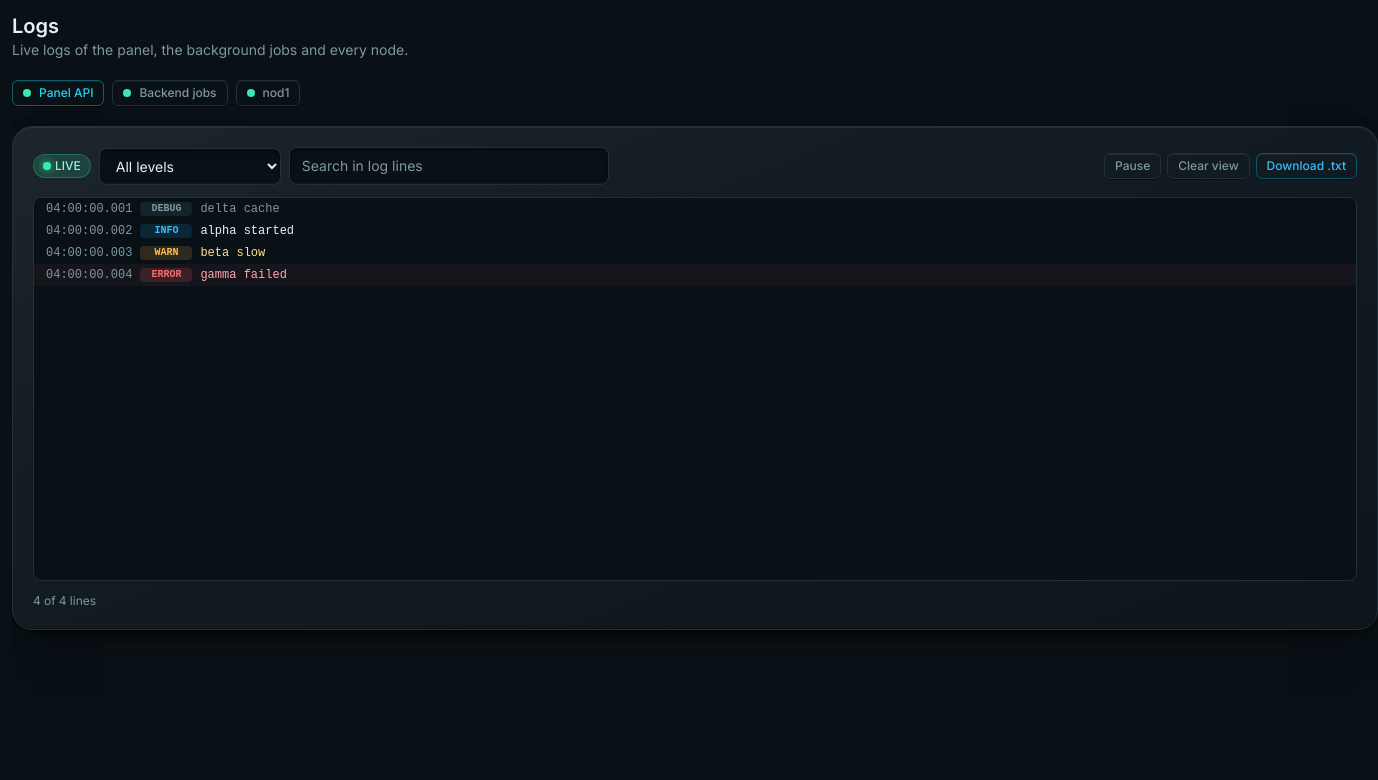
Scenario: Logs toolbar › searches the log text, case-insensitively, and says so when nothing matches
Type "BETA" into the search field with placeholder "Search in log lines" at (449, 166), box left=289, top=147, right=609, bottom=185
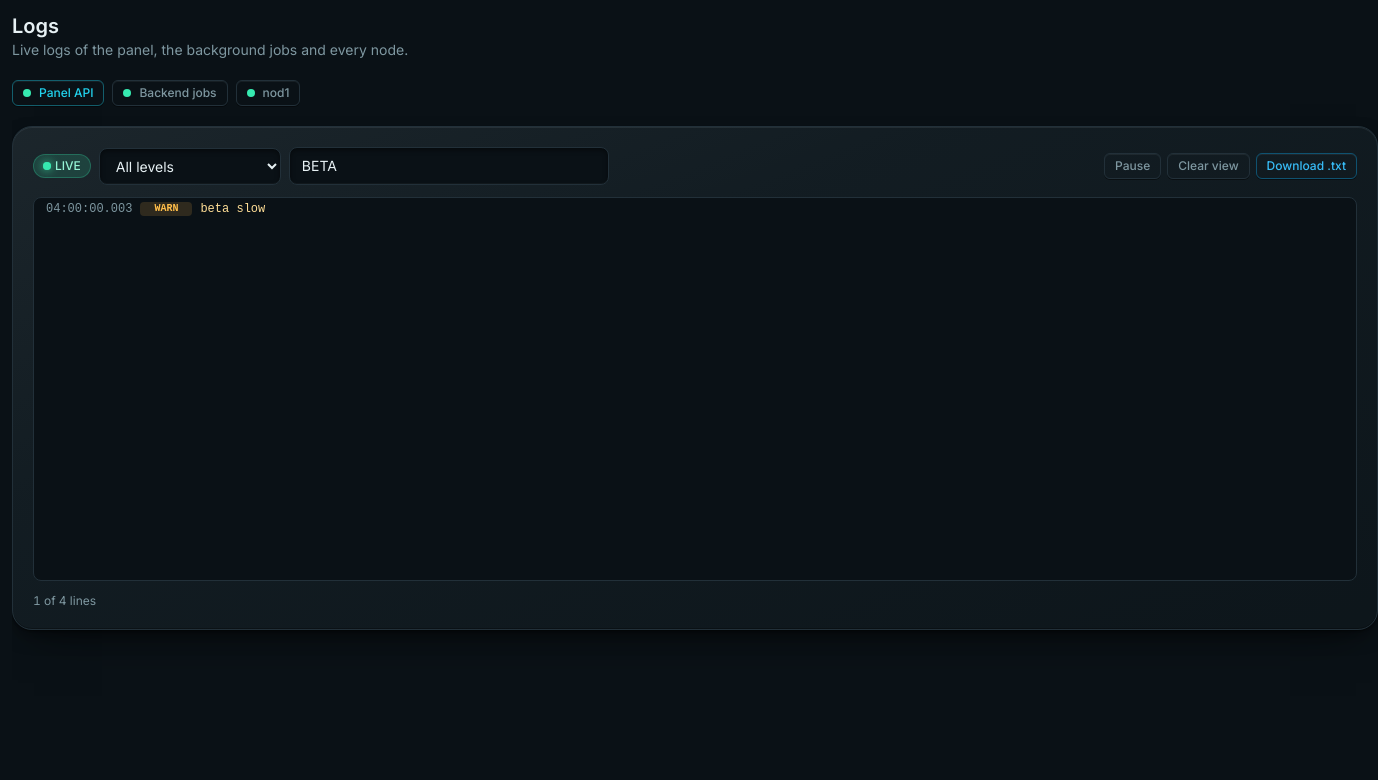
Expected: the text "beta slow" is shown, left=200, top=203, right=265, bottom=215
Result: the text "1 of 4 lines" is shown at left=33, top=593, right=96, bottom=608
Replace the text in the search field with placeholder "Search in log lines" with "no such text" at (449, 166), box left=289, top=147, right=609, bottom=185
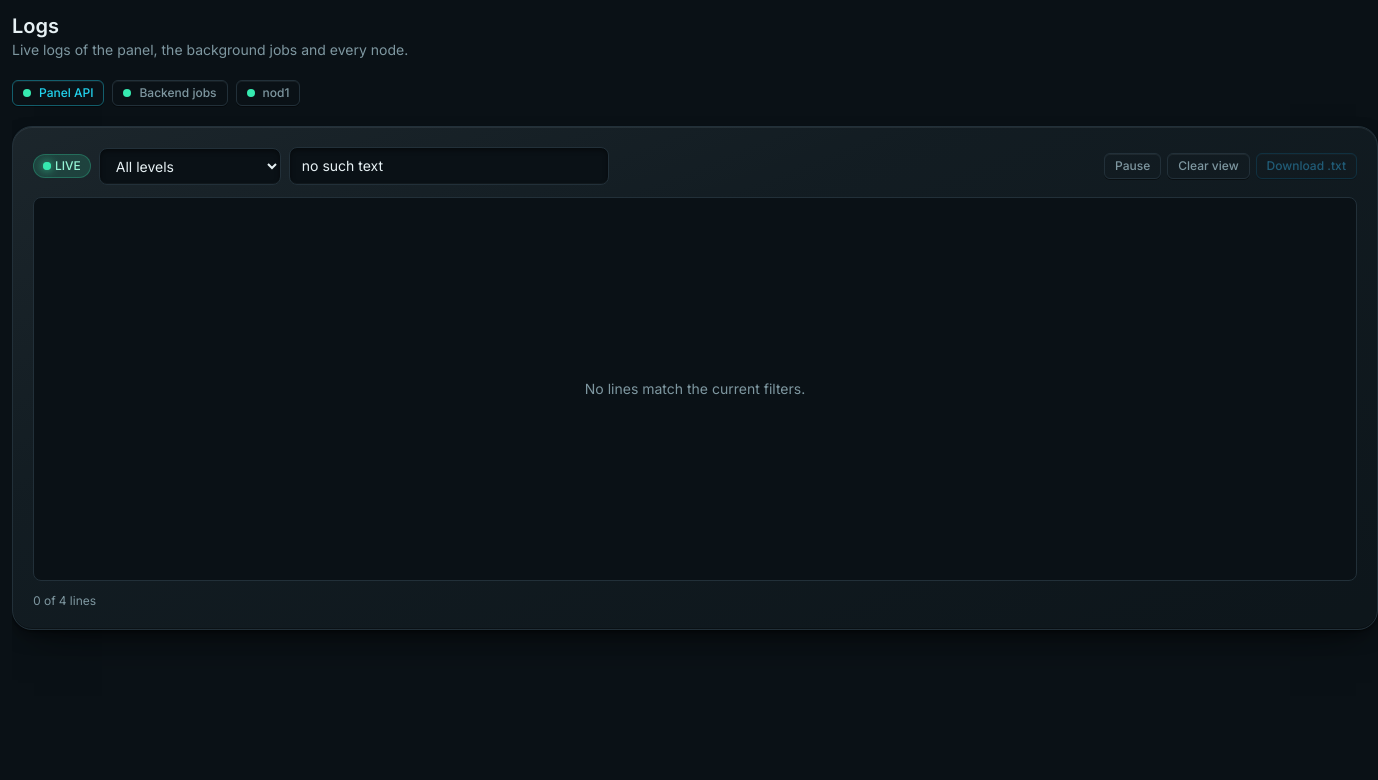
Result: the text "No lines match the current filters." is shown at left=585, top=380, right=805, bottom=397
